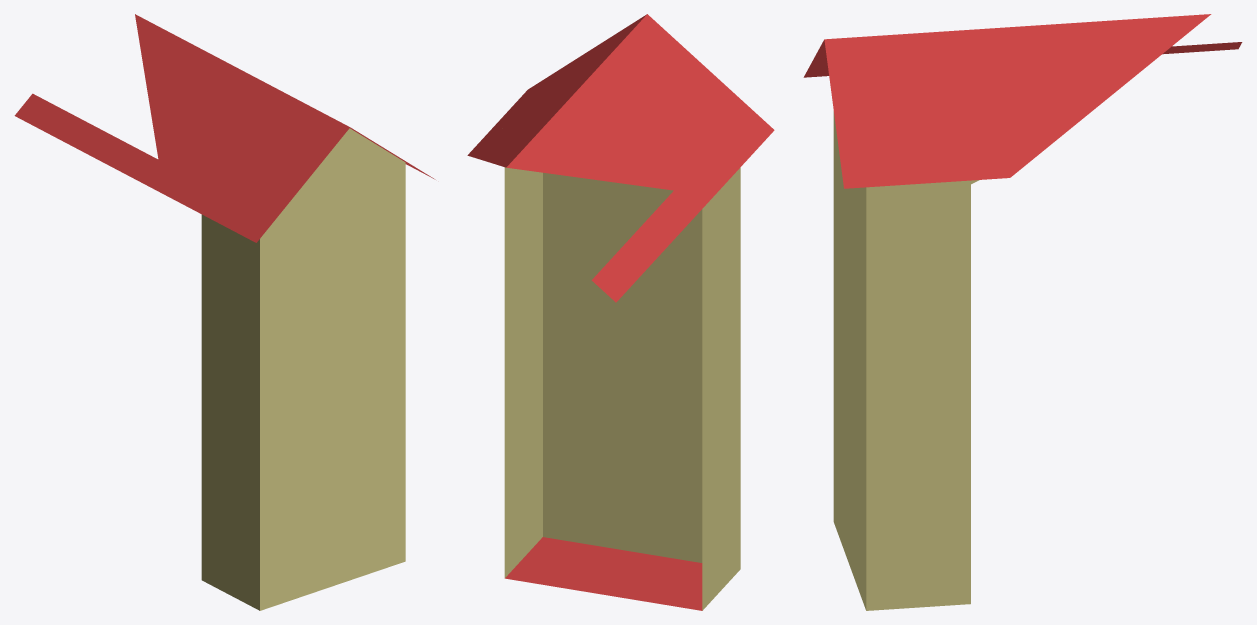
3 views of the same model, side by side, from view 1: azimuth 30°, elevation 25°; view 2: azimuth 150°, elevation 25°; view 3: azimuth 270°, elevation 25° (orthographic). The views are drawn at different scales.
Bounding box in the file's own units: 6.23 × 8.28 × 11.04.
